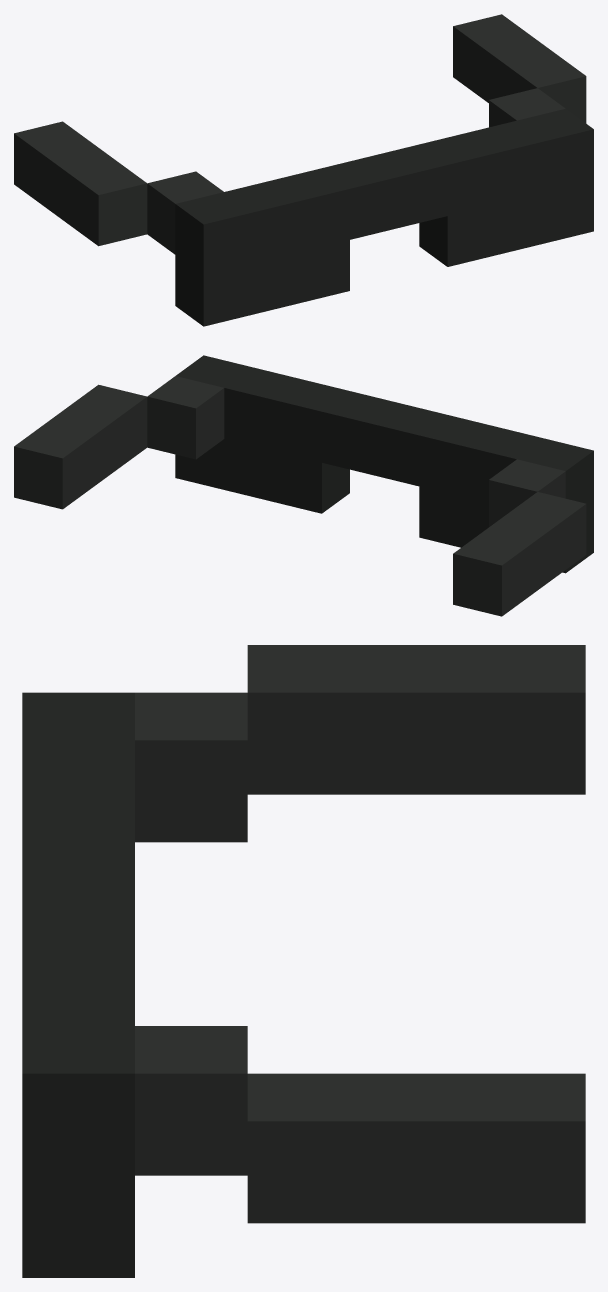
Rendered from Redhead_Ponytail-8.obj.
3 views of the same model, one above another, from view 1: azimuth 30°, elevation 25°; view 2: azimuth 150°, elevation 25°; view 3: azimuth 270°, elevation 25° (orthographic). The views are drawn at different scales.
Size of the model in its own units: 1 by 0.2 by 0.5.
Materials: 1 (1 with a texture image).
